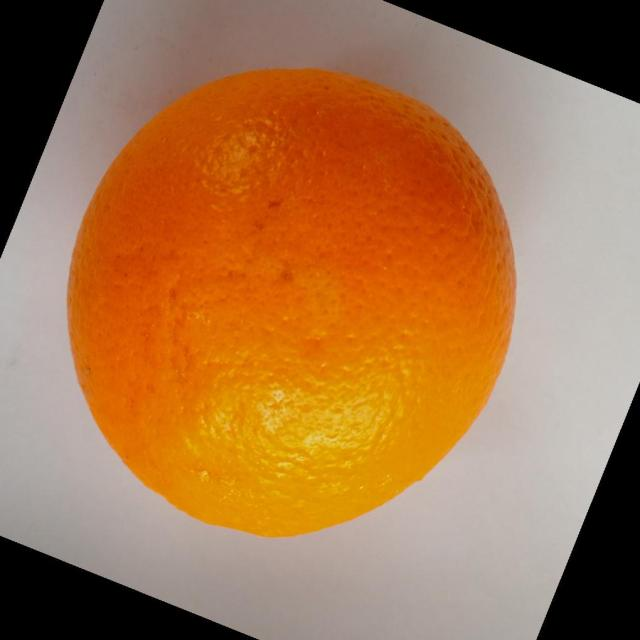fresh orange: (65, 66, 518, 538)
